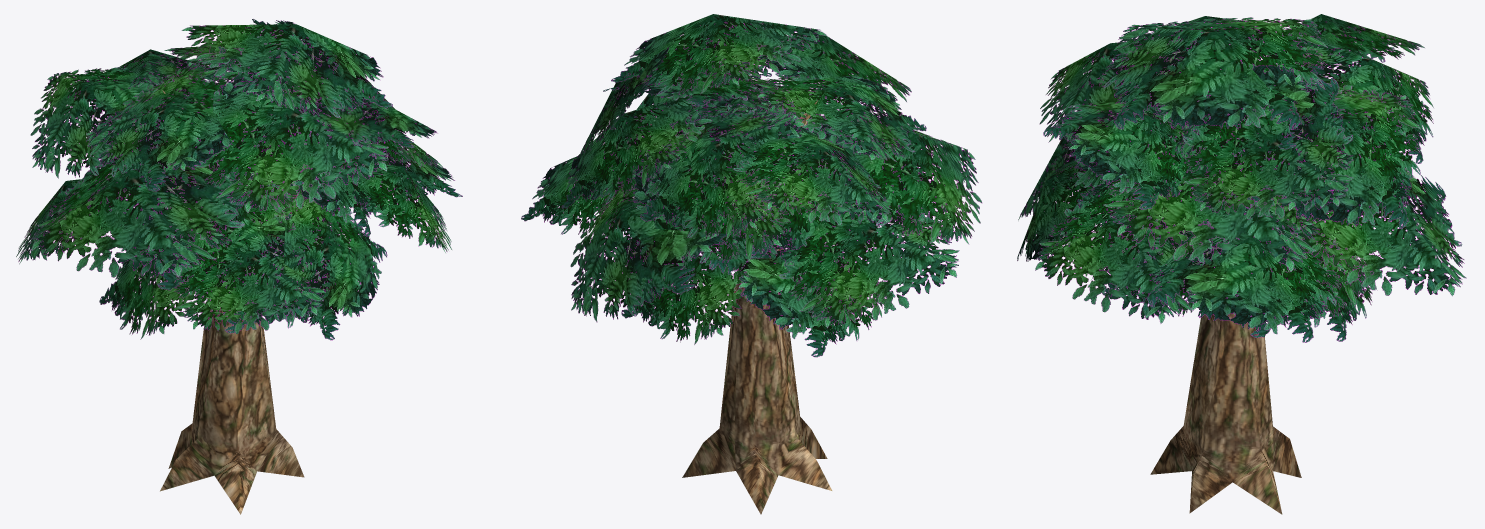
File: n_tree03.glb
The picture shows the model from 3 angles, left to right: view 1: azimuth 30°, elevation 25°; view 2: azimuth 150°, elevation 25°; view 3: azimuth 270°, elevation 25°; orthographic projection. The views are drawn at different scales.
Visible parts, largest first — view 1: n_tree03; view 2: n_tree03; view 3: n_tree03.
Boxes of the visible parts, box(x1,y1,x2,y2) form: n_tree03: box(16, 19, 462, 514); n_tree03: box(521, 14, 982, 514); n_tree03: box(1017, 14, 1466, 514).
Size of the model in its own units: 2.89 by 2.9 by 2.45.
Materials: 2 (2 with a texture image).
